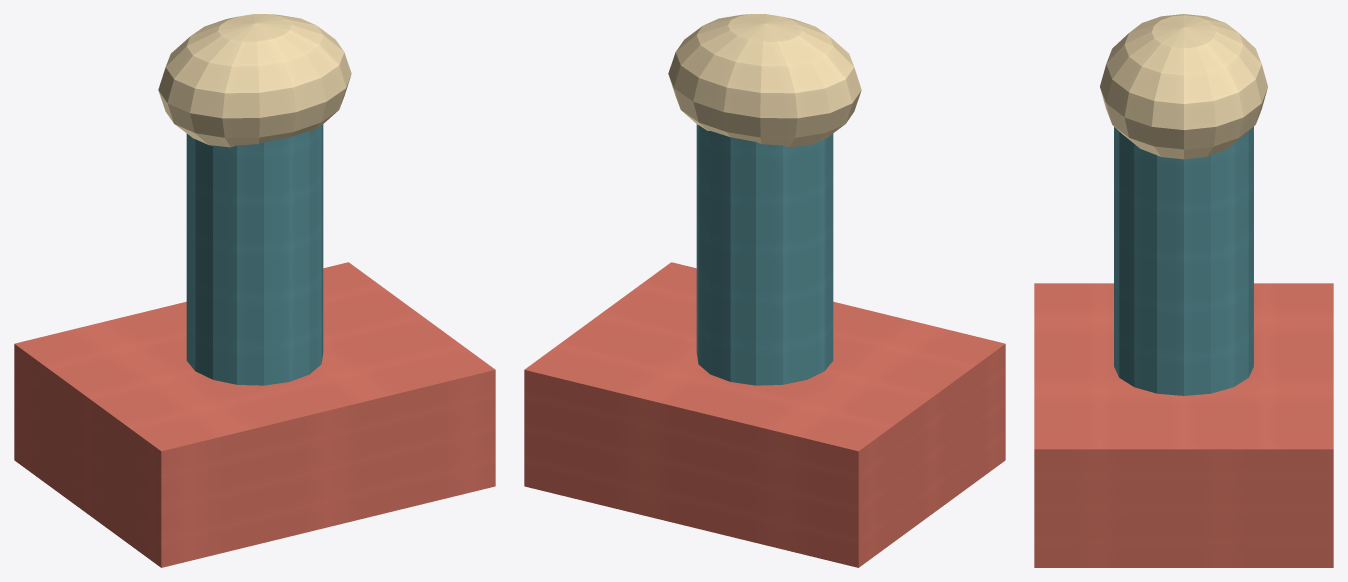
Rendered from atlas100-s074-a05.glb.
3 renders of one model, left to right at view 1: azimuth 30°, elevation 25°; view 2: azimuth 150°, elevation 25°; view 3: azimuth 270°, elevation 25°, orthographic.
Parts seen in each view (by area): view 1: atlas100-s074-a05:part-000, atlas100-s074-a05:part-001, atlas100-s074-a05:part-002; view 2: atlas100-s074-a05:part-000, atlas100-s074-a05:part-001, atlas100-s074-a05:part-002; view 3: atlas100-s074-a05:part-000, atlas100-s074-a05:part-001, atlas100-s074-a05:part-002.
Part boxes in pixels (box(x1,y1,x2,y2)): atlas100-s074-a05:part-000: box(14, 262, 495, 567); atlas100-s074-a05:part-001: box(186, 124, 323, 385); atlas100-s074-a05:part-002: box(158, 14, 351, 147); atlas100-s074-a05:part-000: box(524, 262, 1005, 567); atlas100-s074-a05:part-001: box(696, 124, 833, 385); atlas100-s074-a05:part-002: box(668, 14, 861, 147); atlas100-s074-a05:part-000: box(1034, 283, 1333, 567); atlas100-s074-a05:part-001: box(1114, 127, 1253, 395); atlas100-s074-a05:part-002: box(1100, 14, 1267, 159).
Bounding box in the file's own units: 0.4586 × 0.5897 × 0.3494.
Materials: 3 (3 with a texture image).
